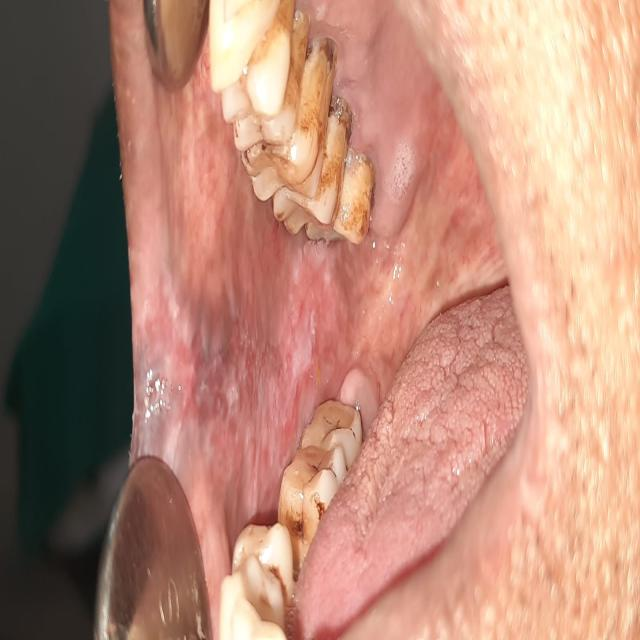leukoplakia-detection: (133, 204, 418, 557)
processing_area: (134, 0, 536, 637)
